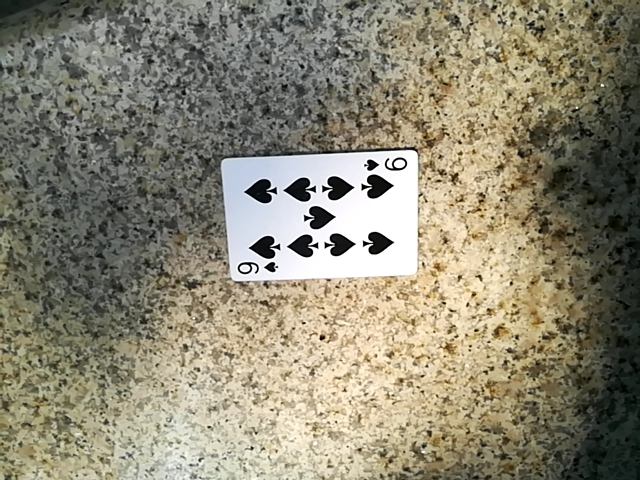ht 9: (210, 153, 415, 286)
